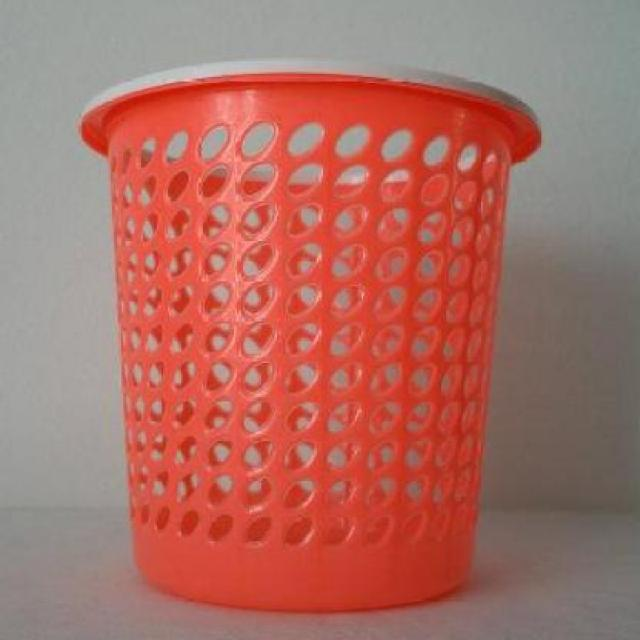dustbin: (75, 52, 547, 615)
